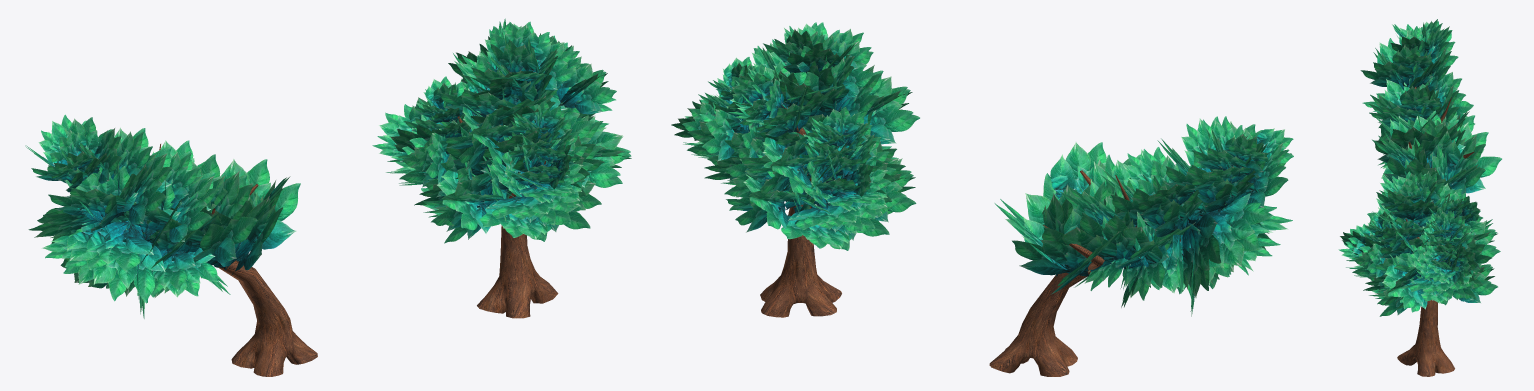
The model's file is Wood.fbx.
3 views of the same model, side by side, from view 1: azimuth 30°, elevation 25°; view 2: azimuth 150°, elevation 25°; view 3: azimuth 270°, elevation 25° (orthographic). The views are drawn at different scales.
Parts seen in each view (by area): view 1: Leaf1, Leaf2, Wood2, Wood1; view 2: Leaf1, Leaf2, Wood2, Wood1; view 3: Leaf1, Leaf2, Wood1.
Boxes of the visible parts, x1,y1,x2,y2 form: Leaf1: [372, 18, 631, 243]; Leaf2: [25, 114, 300, 318]; Wood2: [159, 144, 317, 376]; Wood1: [457, 116, 558, 318]; Leaf1: [671, 22, 919, 250]; Leaf2: [994, 116, 1293, 316]; Wood2: [989, 170, 1181, 376]; Wood1: [760, 105, 841, 317]; Leaf1: [1338, 171, 1500, 316]; Leaf2: [1360, 19, 1501, 196]; Wood1: [1397, 219, 1454, 376].
Bounding box in the file's own units: 16 × 7.37 × 6.2.
